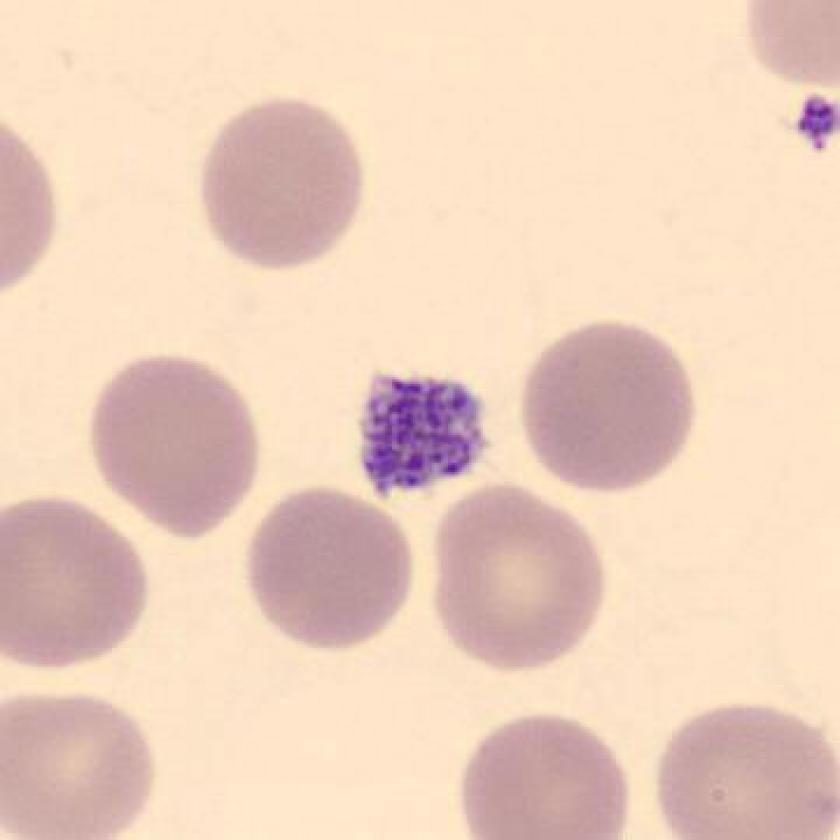platelets: (353, 360, 496, 501), (773, 84, 840, 177)
